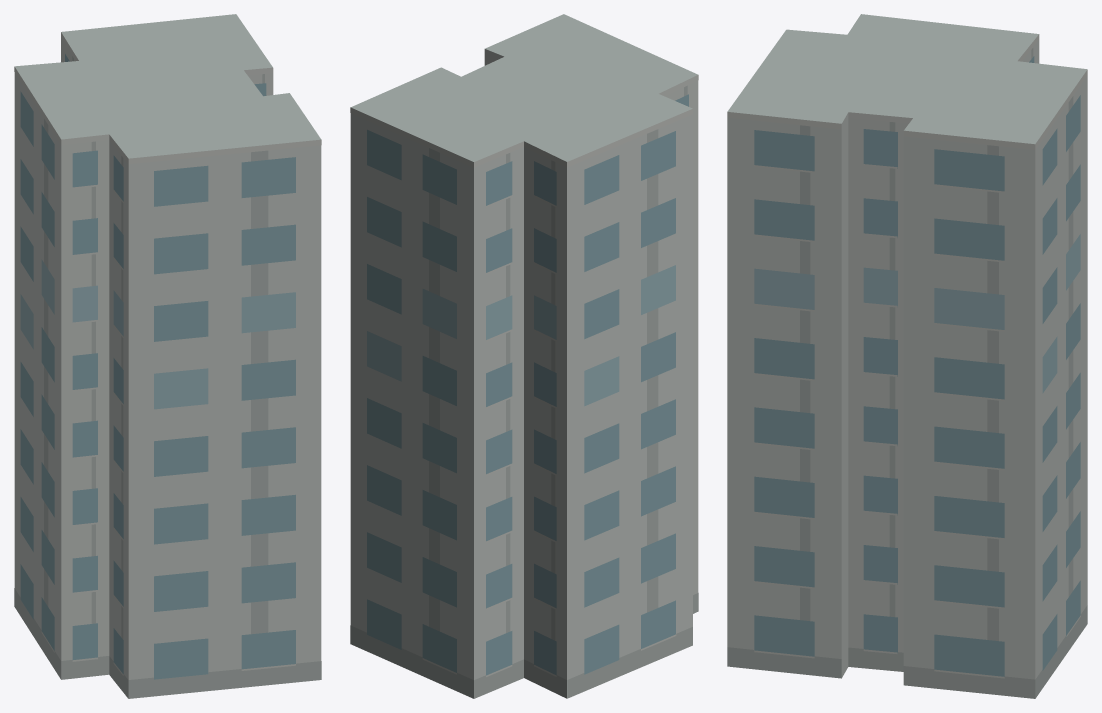
File: survey-upis-32801723.glb
3 views of the same model, side by side, from view 1: azimuth 30°, elevation 25°; view 2: azimuth 150°, elevation 25°; view 3: azimuth 270°, elevation 25° (orthographic). The views are drawn at different scales.
Visible parts, largest first — view 1: survey-upis-32801723.tmp; view 2: survey-upis-32801723.tmp; view 3: survey-upis-32801723.tmp.
Part boxes in pixels (left/top/right/bottom): survey-upis-32801723.tmp: left=14, top=14, right=321, bottom=698; survey-upis-32801723.tmp: left=350, top=14, right=698, bottom=698; survey-upis-32801723.tmp: left=727, top=14, right=1087, bottom=698.
Size of the model in its own units: 11.69 by 23.2 by 13.67.
